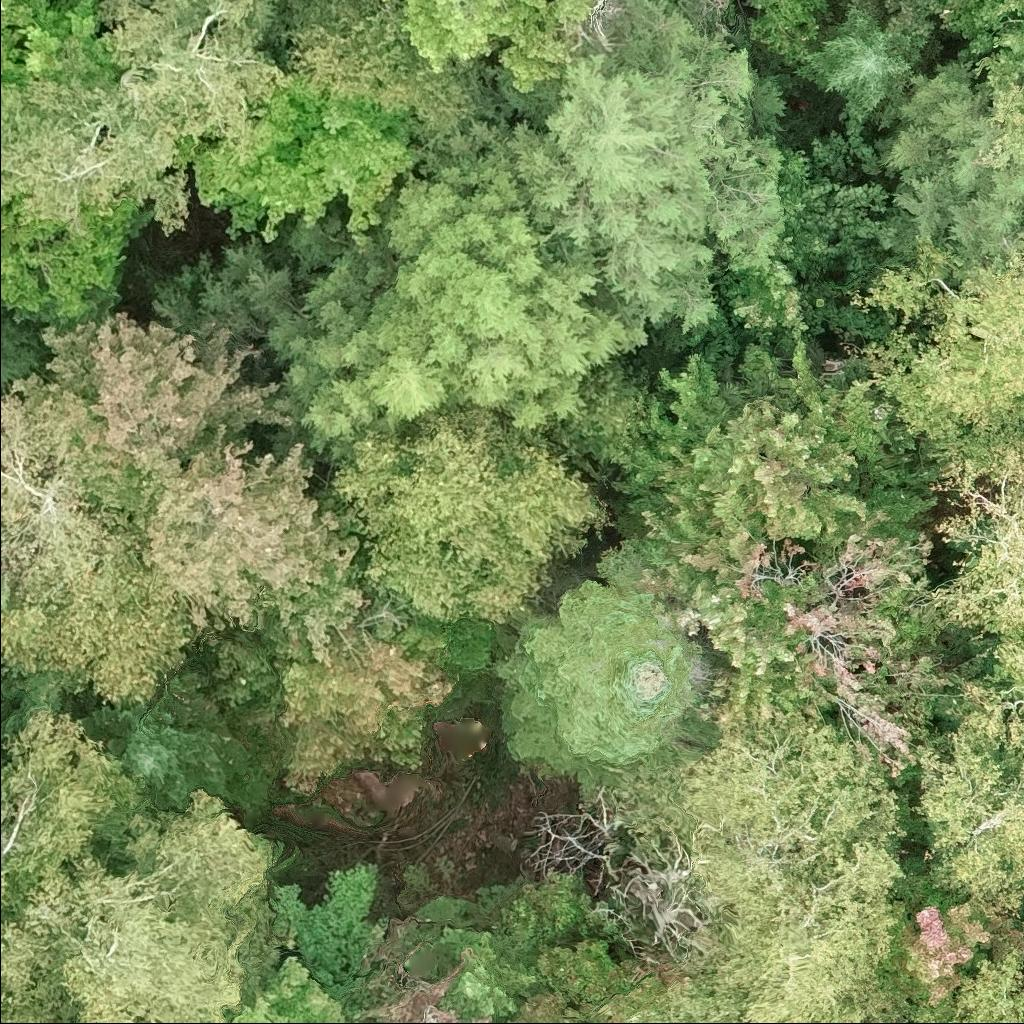crown: (614, 329, 986, 786), (199, 114, 639, 458), (25, 310, 375, 667), (506, 0, 795, 348), (598, 713, 912, 1023), (0, 713, 282, 1023), (0, 0, 291, 237), (0, 375, 191, 705), (328, 404, 612, 623), (492, 528, 721, 791), (202, 594, 462, 796), (192, 74, 425, 254), (847, 233, 1023, 466), (276, 0, 499, 157), (874, 57, 1023, 288), (926, 441, 1023, 735), (83, 668, 275, 808), (911, 708, 1023, 902), (878, 869, 1023, 1016), (388, 0, 596, 94), (790, 0, 931, 133), (0, 193, 142, 323), (507, 942, 643, 1023), (232, 954, 361, 1023), (909, 946, 1023, 1023), (346, 977, 495, 1023), (981, 81, 1023, 167), (0, 0, 50, 36), (0, 27, 27, 85), (0, 662, 41, 695), (0, 569, 18, 612), (136, 0, 146, 3), (1021, 944, 1023, 950), (1021, 924, 1023, 926)
